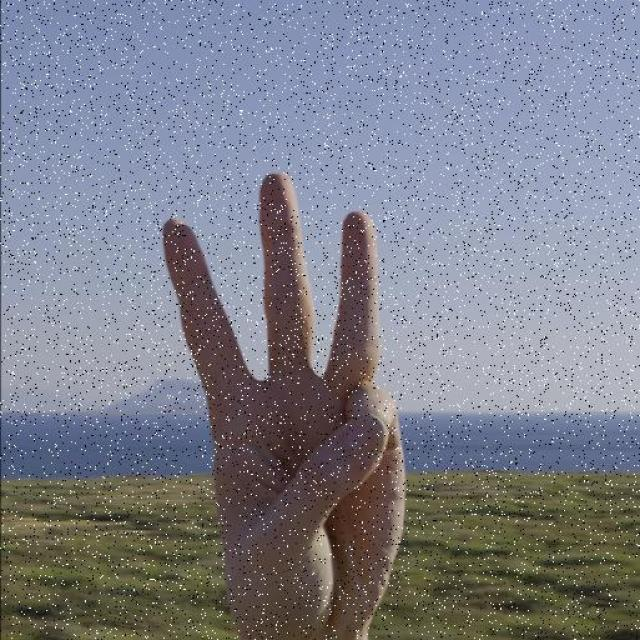W: (156, 169, 409, 640)
